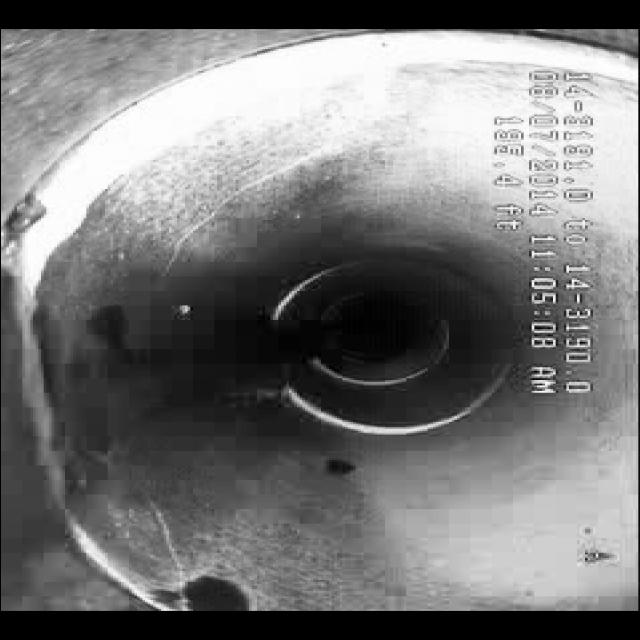Crack: (194, 130, 364, 236), (122, 468, 217, 582)
